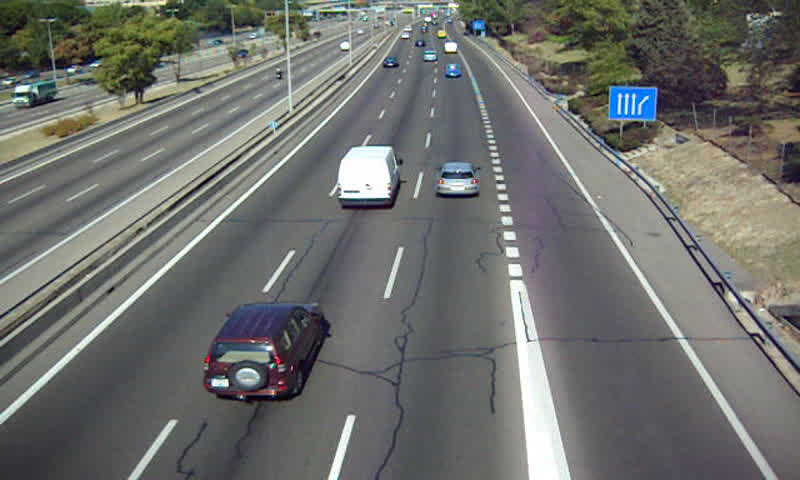car: (203, 303, 322, 400), (437, 162, 478, 197), (443, 61, 462, 78), (420, 48, 440, 63), (382, 56, 398, 69)
van: (337, 146, 401, 207)
